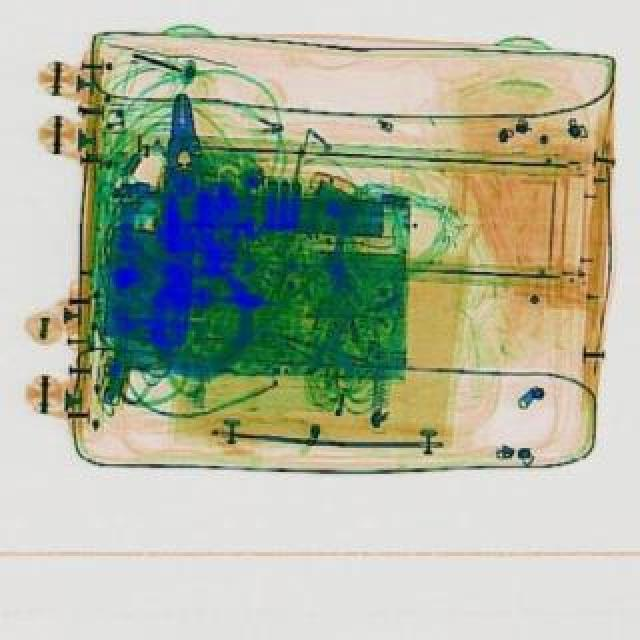wrench: (162, 96, 206, 252)
